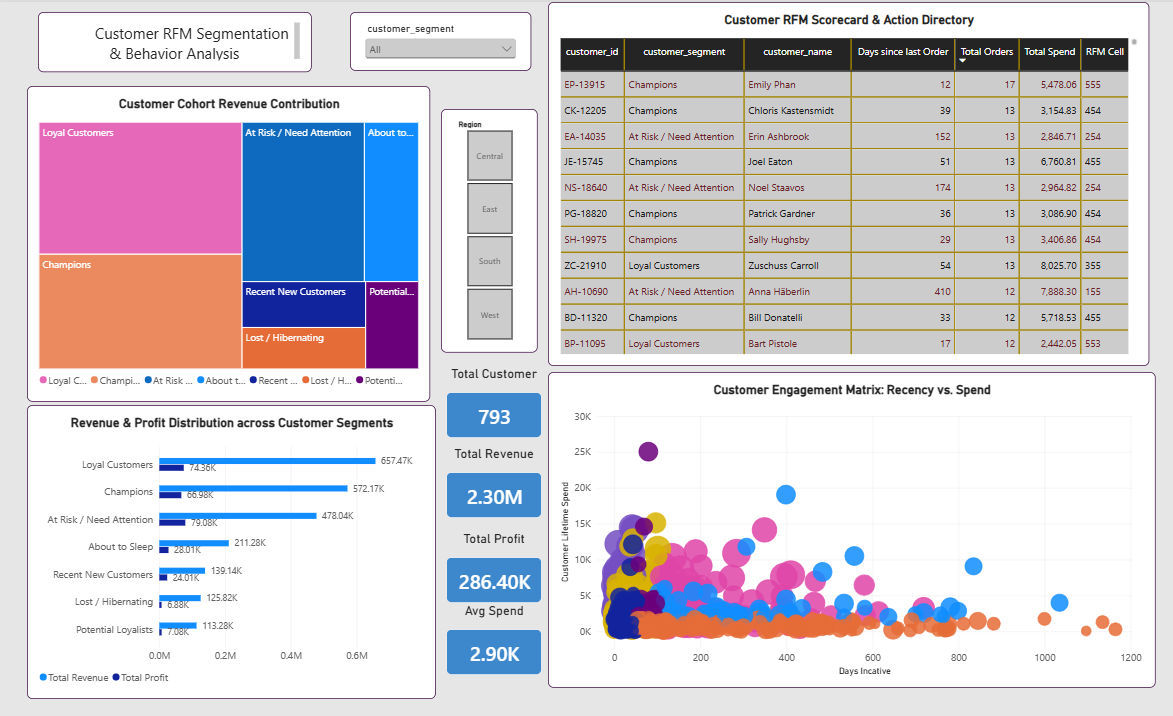

The page's visual inventory and layout, read from the dashboard file:
{"tool":"powerbi","page":{"name":"Page 1","canvas":[1920,1080],"ordinal":0},"visuals":[{"type":"cardVisual","title":"Total Revenue","fields":{"Data":["superstore_db view_customer_rfm_segments.Total Revenue"]},"box":[650,633.8,137.5,103.8],"z":0},{"type":"cardVisual","title":"Avg Spend","fields":{"Data":["superstore_db superstore_orders.Avg Customer Spend"]},"box":[650,858.8,137.5,103.8],"z":1000},{"type":"cardVisual","title":"Total Customer","fields":{"Data":["superstore_db superstore_orders.Total customer"]},"box":[650,520,137.5,103.8],"z":2000},{"type":"cardVisual","title":"Total Profit ","fields":{"Data":["superstore_db superstore_orders.Total Profit"]},"box":[650,755,137.5,103.8],"z":3000},{"type":"treemap","title":"Customer Cohort Revenue Contribution","fields":{"Group":["superstore_db view_customer_rfm_segments.customer_segment"],"Values":["superstore_db view_customer_rfm_segments.Total Revenue"]},"box":[51.2,120,576.2,451.2],"z":4000},{"type":"scatterChart","title":"Customer Engagement Matrix: Recency vs. Spend","fields":{"Category":["superstore_db view_customer_rfm_segments.customer_name"],"Series":["superstore_db view_customer_rfm_segments.customer_segment"],"Size":["Sum(superstore_db view_customer_rfm_segments.frequency)"],"X":["Sum(superstore_db view_customer_rfm_segments.recency)"],"Y":["Sum(superstore_db view_customer_rfm_segments.monetary)"]},"box":[796.2,528.8,867.5,451.2],"z":5000},{"type":"clusteredBarChart","title":"Revenue & Profit Distribution across Customer Segments","fields":{"Category":["superstore_db view_customer_rfm_segments.customer_segment"],"Y":["superstore_db view_customer_rfm_segments.Total Revenue","superstore_db superstore_orders.Total Profit"]},"box":[51.2,576.2,583.8,420],"z":6000},{"type":"tableEx","title":"Customer RFM Scorecard & Action Directory","fields":{"Values":["superstore_db view_customer_rfm_segments.customer_id","superstore_db view_customer_rfm_segments.customer_segment","superstore_db view_customer_rfm_segments.customer_name","Sum(superstore_db view_customer_rfm_segments.recency)","Sum(superstore_db view_customer_rfm_segments.frequency)","Sum(superstore_db view_customer_rfm_segments.monetary)","superstore_db view_customer_rfm_segments.rfm_cell"]},"box":[796.2,0,858.8,520],"z":7000},{"type":"slicer","fields":{"Values":["superstore_db superstore_orders.region"]},"box":[642.5,152.5,137.5,347.5],"z":8000},{"type":"slicer","fields":{"Values":["superstore_db view_customer_rfm_segments.customer_segment"]},"box":[512.5,13.8,258.8,83.8],"z":9000},{"type":"textbox","box":[1665,0,255,520],"z":10000},{"type":"textbox","box":[67.5,13.8,391.2,86.2],"z":11000}]}

Visuals, with their boxes in screenshot pixels (x1, y1, x2, y2):
"Total Revenue" cardVisual: region(463, 429, 543, 490)
"Avg Spend" cardVisual: region(463, 560, 543, 620)
"Total Customer" cardVisual: region(463, 363, 543, 424)
"Total Profit " cardVisual: region(463, 500, 543, 560)
"Customer Cohort Revenue Contribution" treemap: region(115, 131, 450, 393)
"Customer Engagement Matrix: Recency vs. Spend" scatterChart: region(548, 368, 1052, 631)
"Revenue & Profit Distribution across Customer Segments" clusteredBarChart: region(115, 396, 455, 640)
"Customer RFM Scorecard & Action Directory" tableEx: region(548, 61, 1047, 363)
slicer - superstore_db superstore_orders.region: region(459, 150, 539, 352)
slicer - superstore_db view_customer_rfm_segments.customer_segment: region(383, 69, 534, 118)
textbox: region(1053, 61, 1172, 363)
textbox: region(125, 69, 352, 119)
